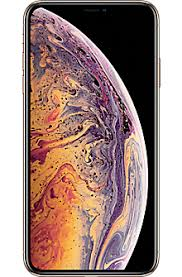iphone: (19, 1, 160, 277)
iphone10: (18, 1, 159, 277)
